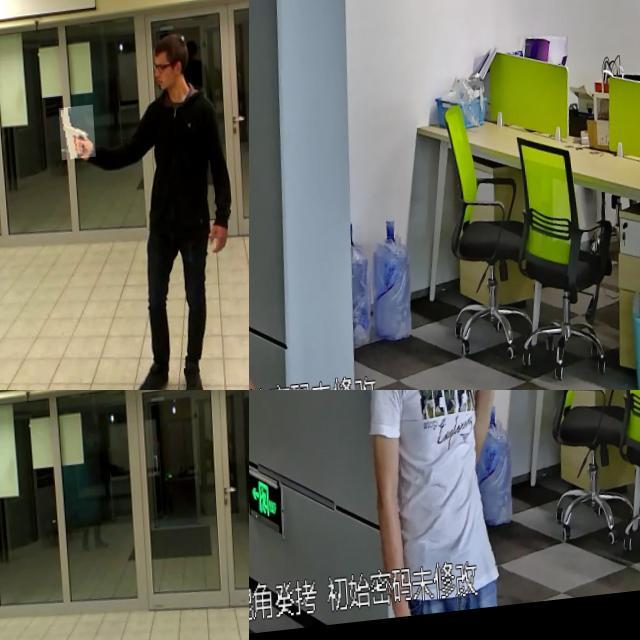gun-knife-thesis - v11 Yolov5 augmented: (249, 204, 279, 340), (476, 390, 551, 440), (55, 112, 91, 166), (0, 568, 24, 619)
